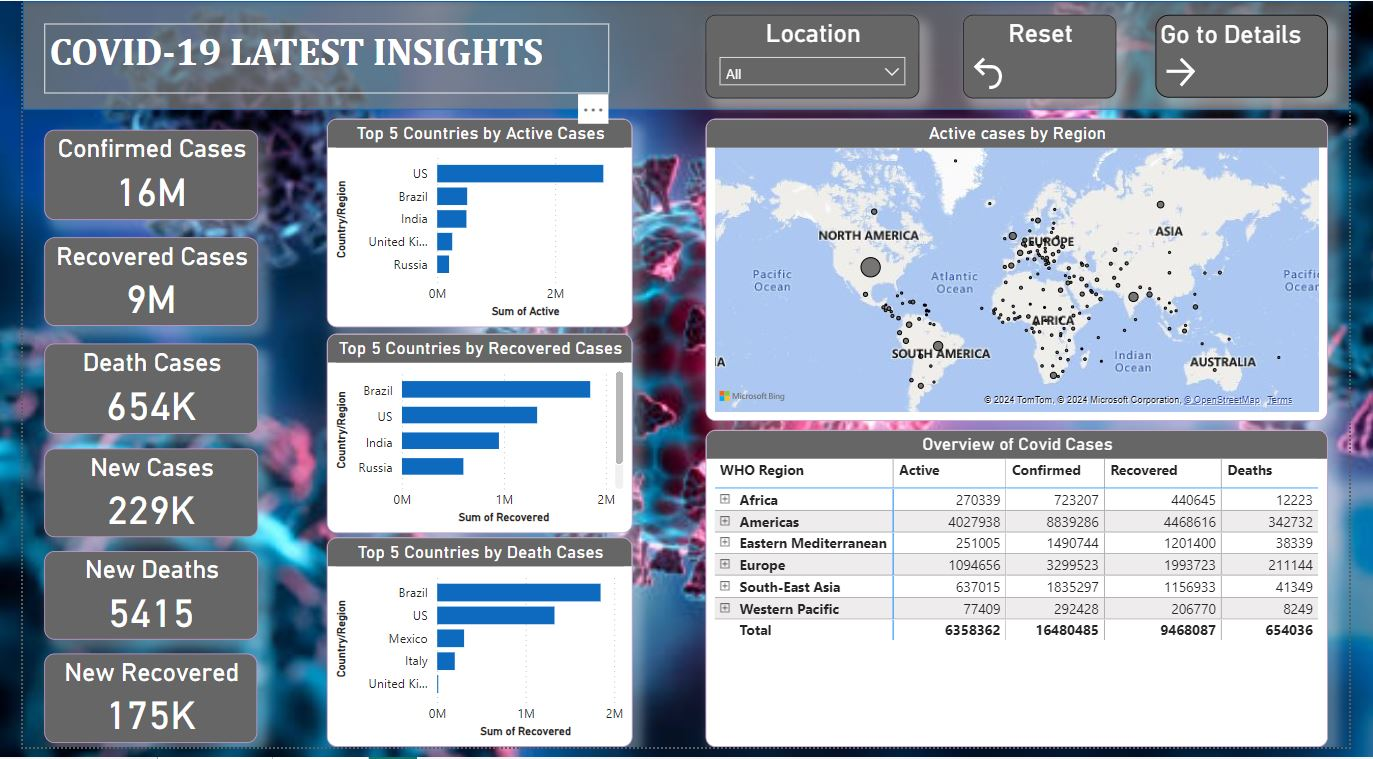

The dashboard page shown, as its layout file describes it:
{"tool":"powerbi","page":{"name":"Overview","canvas":[1280,720],"ordinal":0},"visuals":[{"type":"card","title":"Confirmed Cases","fields":{"Values":["Sum(country_wise_latest.Confirmed)"]},"box":[20.5,124.3,206.3,86.9],"z":1000},{"type":"card","title":"Recovered Cases","fields":{"Values":["Sum(country_wise_latest.Recovered)"]},"box":[20.5,228,206.3,85.7],"z":2000},{"type":"card","title":"Death Cases","fields":{"Values":["Sum(country_wise_latest.Deaths)"]},"box":[20.5,330.6,206.3,86.9],"z":3000},{"type":"map","title":"Active cases by Region","fields":{"Size":["Sum(country_wise_latest.Active)"],"Category":["country_wise_latest.Country/Region"]},"box":[658.7,113.4,600.8,292],"z":5000},{"type":"clusteredBarChart","title":"Top 5 Countries by Active Cases","fields":{"Category":["country_wise_latest.Country/Region"],"Y":["Sum(country_wise_latest.Active)"]},"box":[293.2,113.4,295.6,201.5],"z":6000},{"type":"clusteredBarChart","title":"Top 5 Countries by Recovered Cases","fields":{"Category":["country_wise_latest.Country/Region"],"Y":["Sum(country_wise_latest.Recovered)"]},"box":[293.2,320.9,295.6,193],"z":7000},{"type":"clusteredBarChart","title":"Top 5 Countries by Death Cases","fields":{"Category":["country_wise_latest.Country/Region"],"Y":["Sum(country_wise_latest.Recovered)"]},"box":[293.2,517.6,295.6,202.7],"z":8000},{"type":"pivotTable","title":"Overview of Covid Cases","fields":{"Rows":["country_wise_latest.WHO Region","country_wise_latest.Country/Region"],"Values":["Sum(country_wise_latest.Active)","Sum(country_wise_latest.Confirmed)","Sum(country_wise_latest.Recovered)","Sum(country_wise_latest.Deaths)"]},"box":[658.7,413.8,600.8,306.4],"z":9000},{"type":"card","title":"New Cases","fields":{"Values":["Sum(country_wise_latest.New cases)"]},"box":[20.5,431.9,206.3,85.7],"z":10000},{"type":"card","title":"New Deaths","fields":{"Values":["Sum(country_wise_latest.New deaths)"]},"box":[20.5,530.8,206.3,85.7],"z":11000},{"type":"card","title":"New Recovered","fields":{"Values":["Sum(country_wise_latest.New recovered)"]},"box":[20.6,629.8,205.8,86.4],"z":12000},{"type":"shape","box":[0,0,1280,105],"z":12001},{"type":"textbox","box":[20.5,21.7,545.3,67.6],"z":12002},{"type":"slicer","title":"Location","fields":{"Values":["country_wise_latest.Country/Region"]},"box":[658.7,13.3,206.3,80.8],"z":12003},{"type":"actionButton","title":"Reset","box":[907.2,13.3,148.4,80.8],"z":12004},{"type":"actionButton","title":"Go to Details","box":[1093,13.3,166.5,79.6],"z":12005}]}

Visuals, with their boxes in screenshot pixels (x1, y1, x2, y2), scaled from the page's 1280x720 canvas onto the 1373x759 screenshot:
"Confirmed Cases" card: {"left": 22, "top": 131, "right": 243, "bottom": 223}
"Recovered Cases" card: {"left": 22, "top": 240, "right": 243, "bottom": 331}
"Death Cases" card: {"left": 22, "top": 349, "right": 243, "bottom": 440}
"Active cases by Region" map: {"left": 707, "top": 120, "right": 1351, "bottom": 427}
"Top 5 Countries by Active Cases" clusteredBarChart: {"left": 315, "top": 120, "right": 632, "bottom": 332}
"Top 5 Countries by Recovered Cases" clusteredBarChart: {"left": 315, "top": 338, "right": 632, "bottom": 542}
"Top 5 Countries by Death Cases" clusteredBarChart: {"left": 315, "top": 546, "right": 632, "bottom": 758}
"Overview of Covid Cases" pivotTable: {"left": 707, "top": 436, "right": 1351, "bottom": 758}
"New Cases" card: {"left": 22, "top": 455, "right": 243, "bottom": 546}
"New Deaths" card: {"left": 22, "top": 560, "right": 243, "bottom": 650}
"New Recovered" card: {"left": 22, "top": 664, "right": 243, "bottom": 755}
shape: {"left": 0, "top": 0, "right": 1372, "bottom": 111}
textbox: {"left": 22, "top": 23, "right": 607, "bottom": 94}
"Location" slicer: {"left": 707, "top": 14, "right": 928, "bottom": 99}
"Reset" actionButton: {"left": 973, "top": 14, "right": 1132, "bottom": 99}
"Go to Details" actionButton: {"left": 1172, "top": 14, "right": 1351, "bottom": 98}
